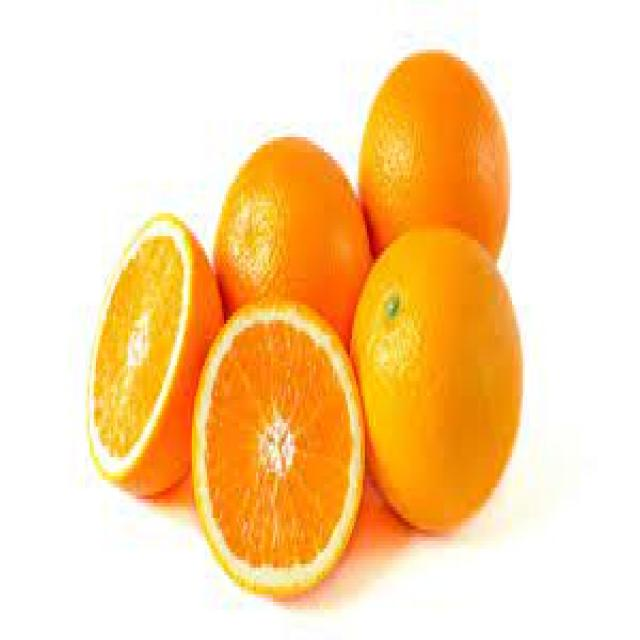orange: (352, 232, 525, 538), (196, 293, 365, 598), (356, 53, 514, 248), (90, 217, 192, 507), (213, 137, 363, 320)
